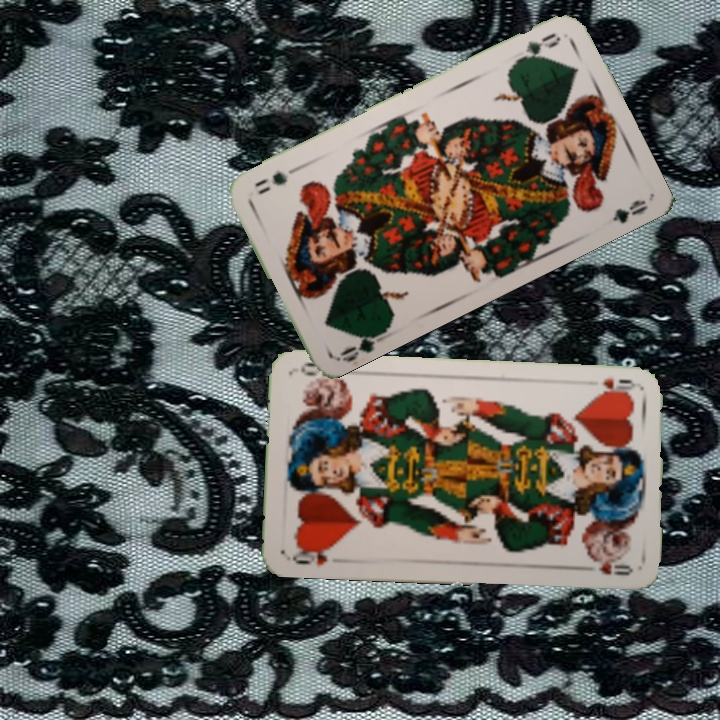GO: (334, 328, 390, 364), (511, 29, 564, 67)
HO: (288, 542, 337, 569), (593, 375, 643, 398)
